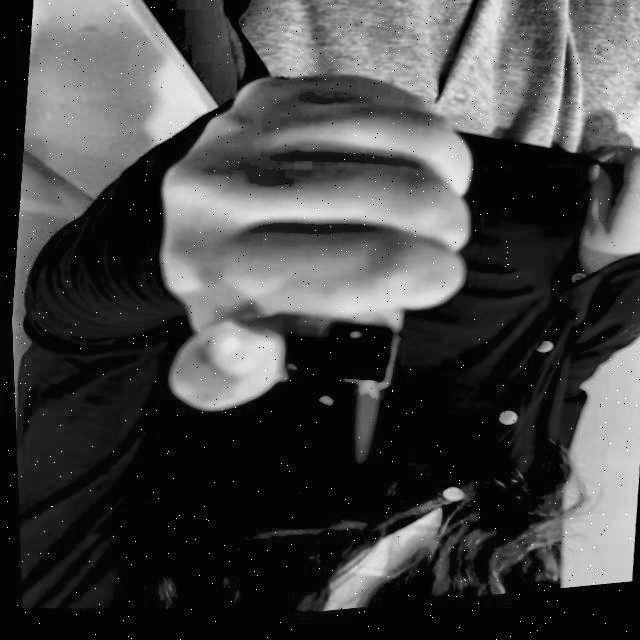Fire: (343, 387, 381, 473)
